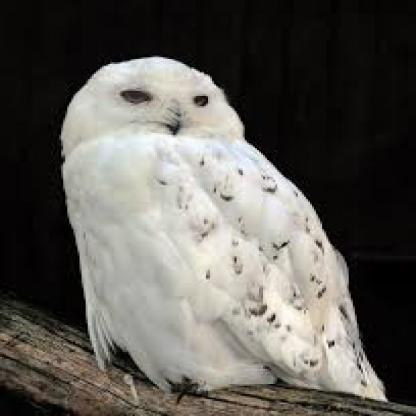owl: (31, 29, 414, 414)
